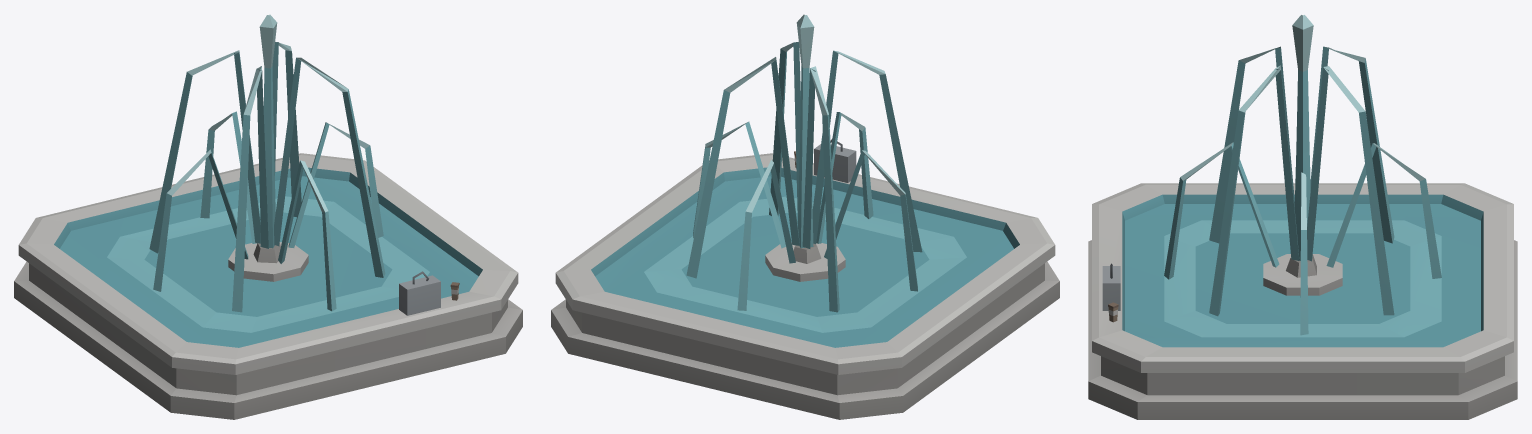
File: fountain.lod1.glb
The picture shows the model from 3 angles, left to right: view 1: azimuth 30°, elevation 25°; view 2: azimuth 150°, elevation 25°; view 3: azimuth 270°, elevation 25°; orthographic projection. The views are drawn at different scales.
Size of the model in its own units: 4.8 by 3.88 by 4.8.
